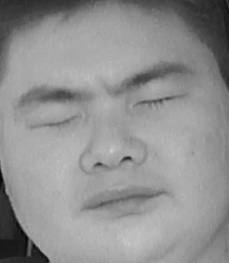blink: (25, 109, 78, 139), (135, 89, 187, 118)
mouth: (84, 176, 163, 222)
